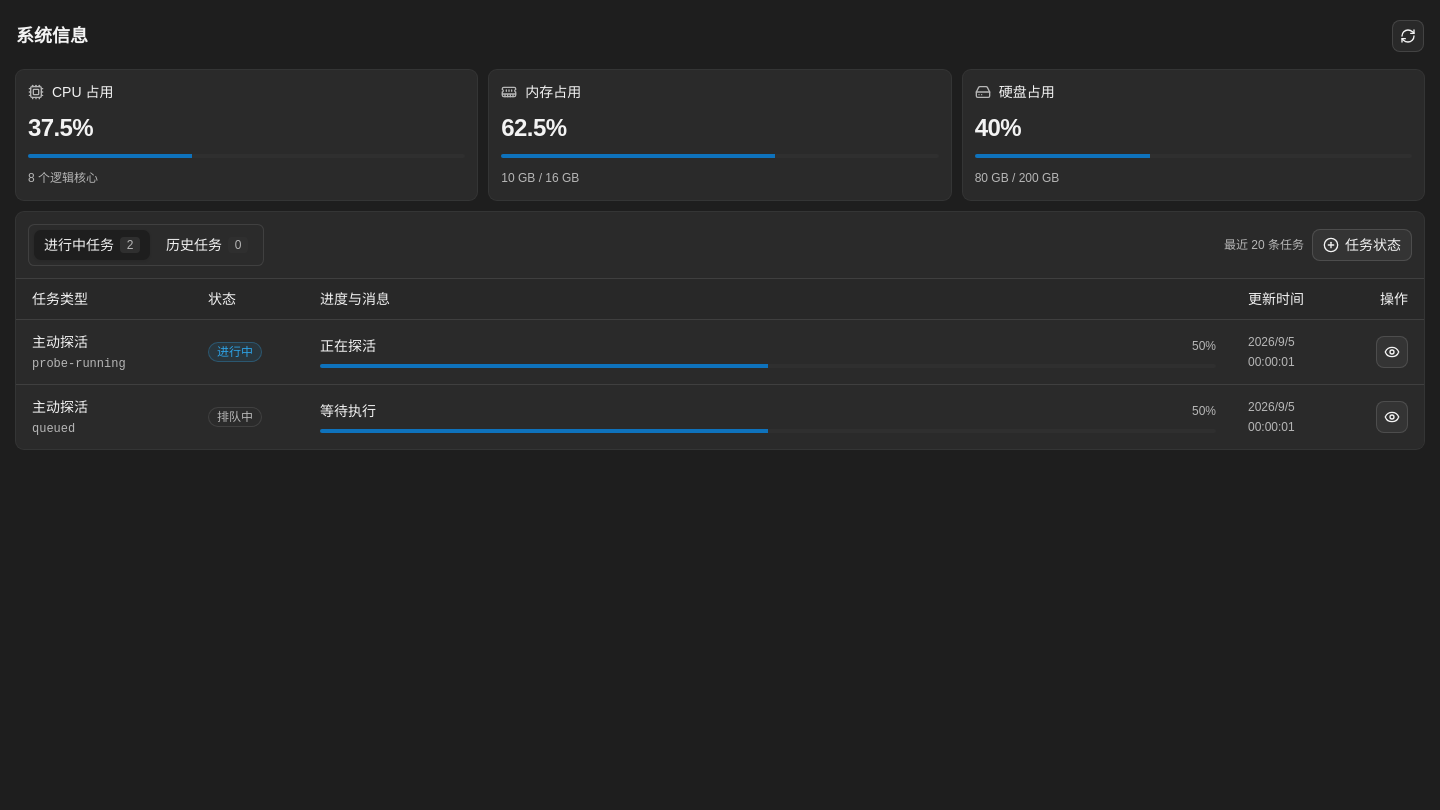
it: 系统信息任务页面 › 任务状态按字典顺序筛选，选择状态只显示匹配任务
Click the button with aria-label "任务状态筛选": click(1362, 245) [1312,229,1412,261]
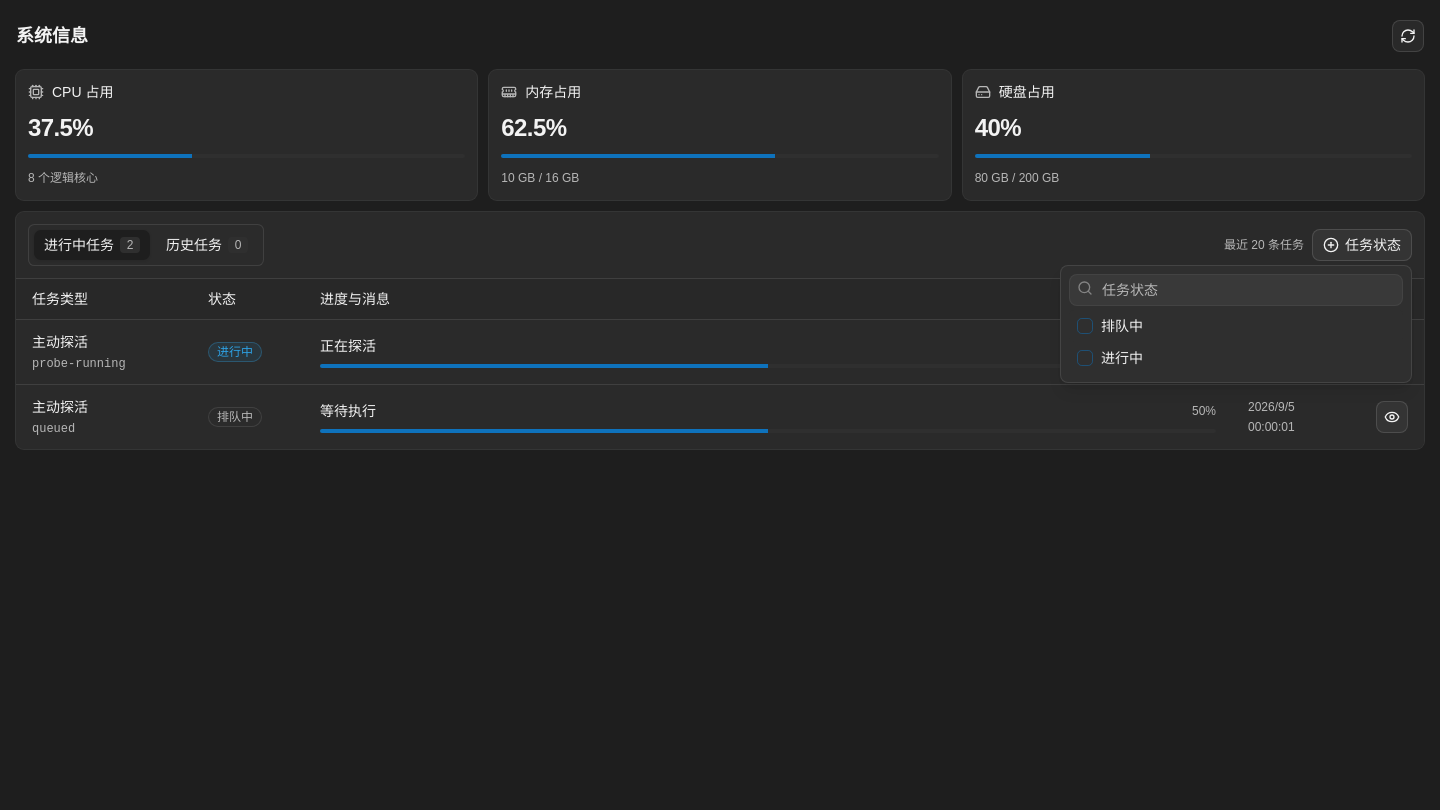
Expected: the options read "排队中", "进行中", in this order
Click the option "排队中": click(1122, 326) [1069,310,1403,342]
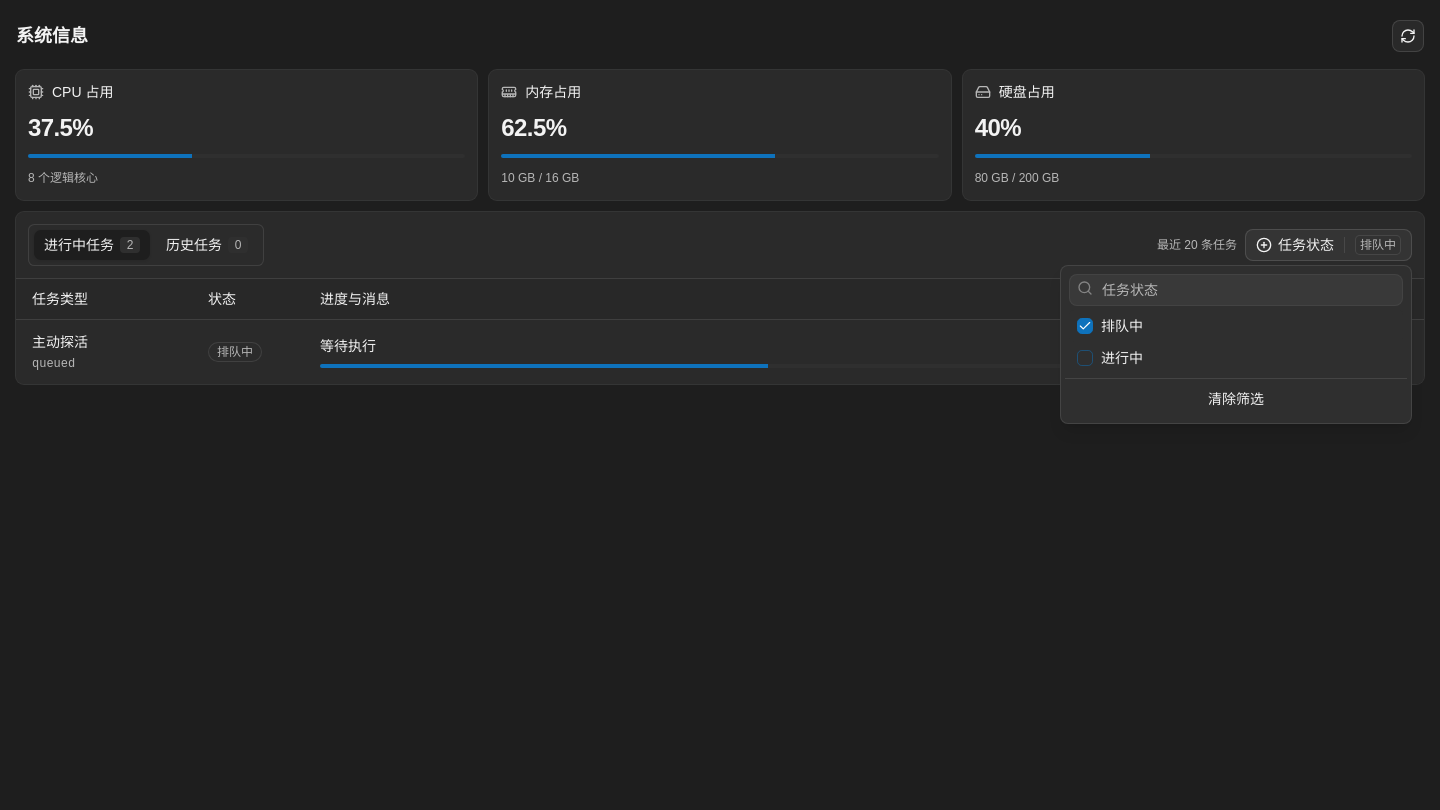
Expected: the text "等待执行" is shown, [320,338,376,354]
Expected: the text "正在探活" is gone
